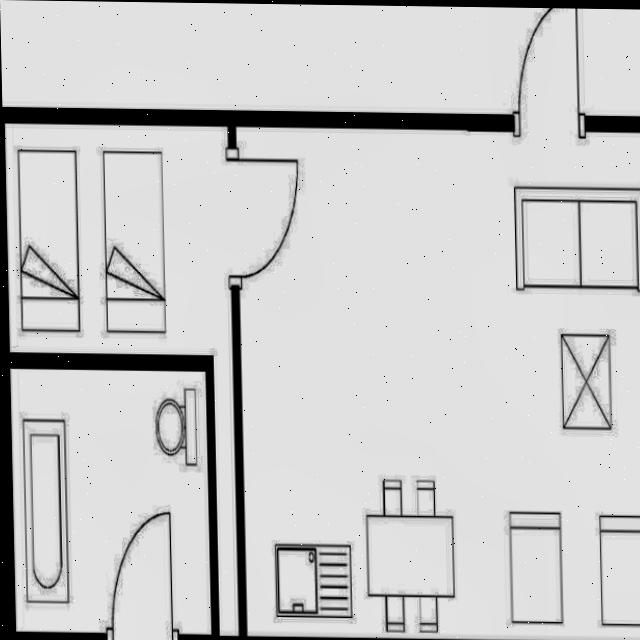room: (236, 127, 640, 640), (5, 117, 239, 640), (11, 365, 209, 636)
